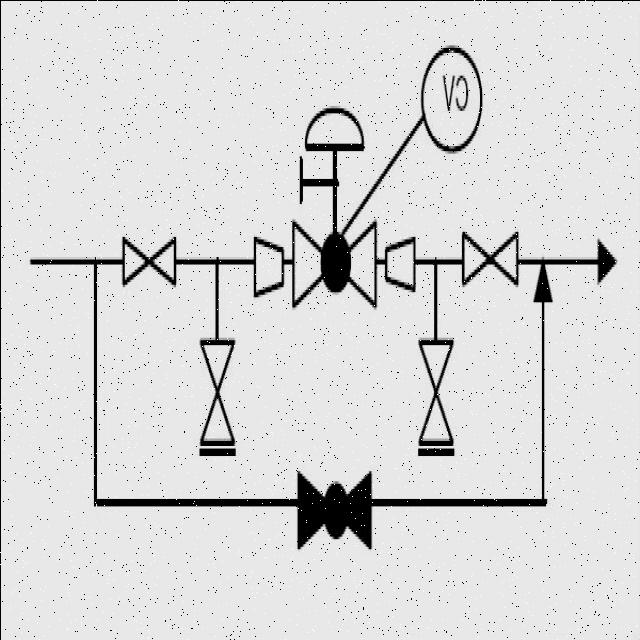Gate Valve: (403, 332, 462, 444), (190, 332, 242, 448), (110, 224, 190, 294), (457, 214, 527, 290)
Pneumatic-Diaphragm Globe Valve: (286, 62, 399, 320)
